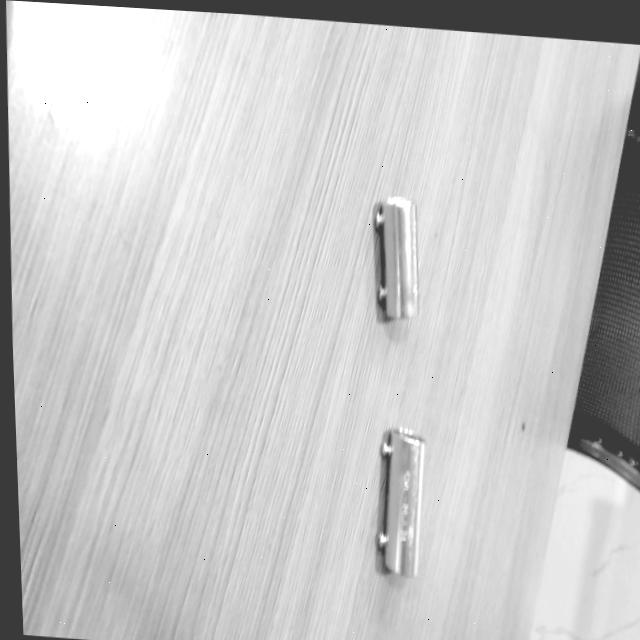Co_Lon: (375, 426, 425, 577)
Co_Nho: (374, 195, 419, 319)
